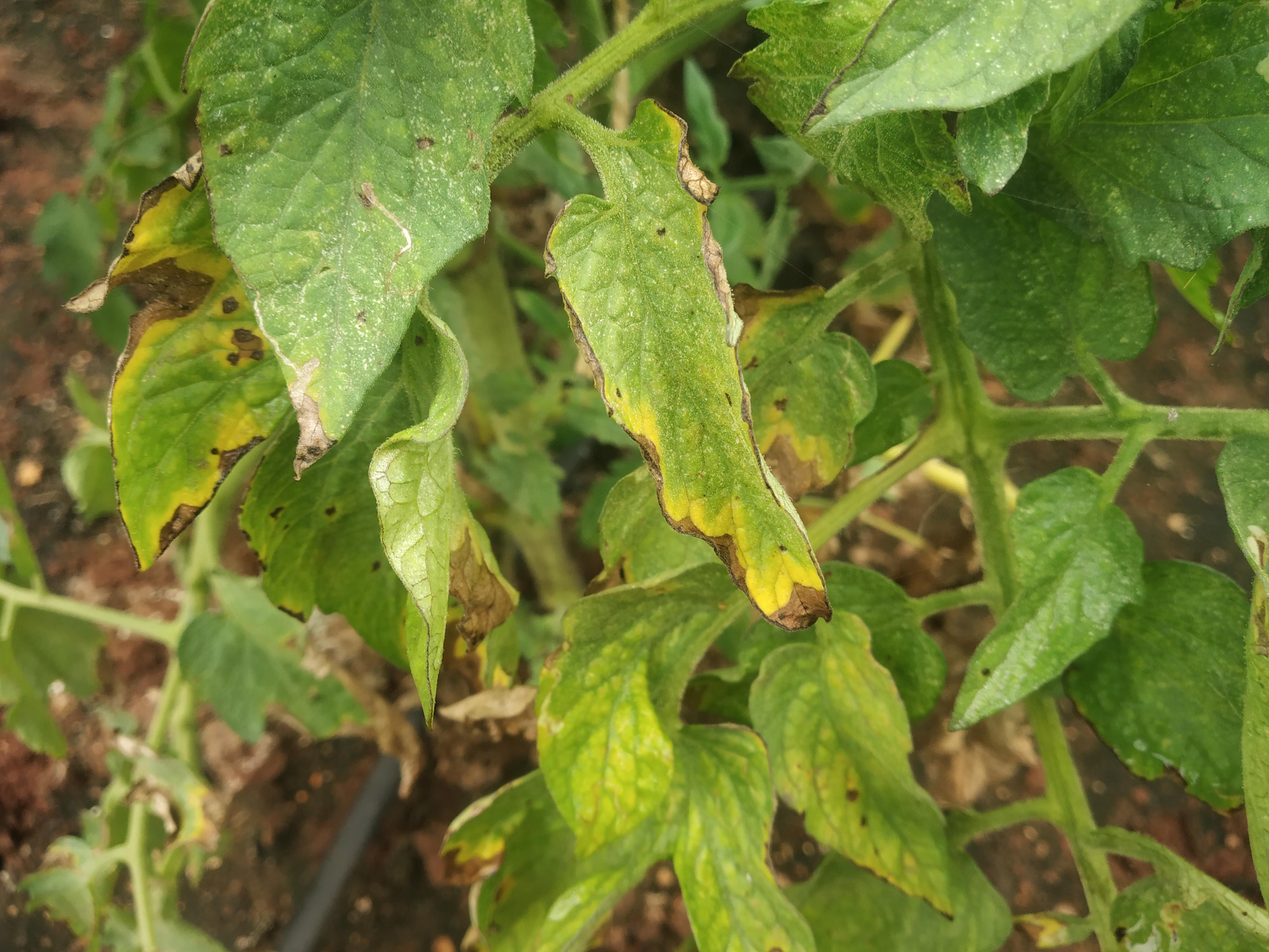Early Blight: (532, 91, 841, 639), (58, 144, 284, 582), (750, 608, 957, 928)
